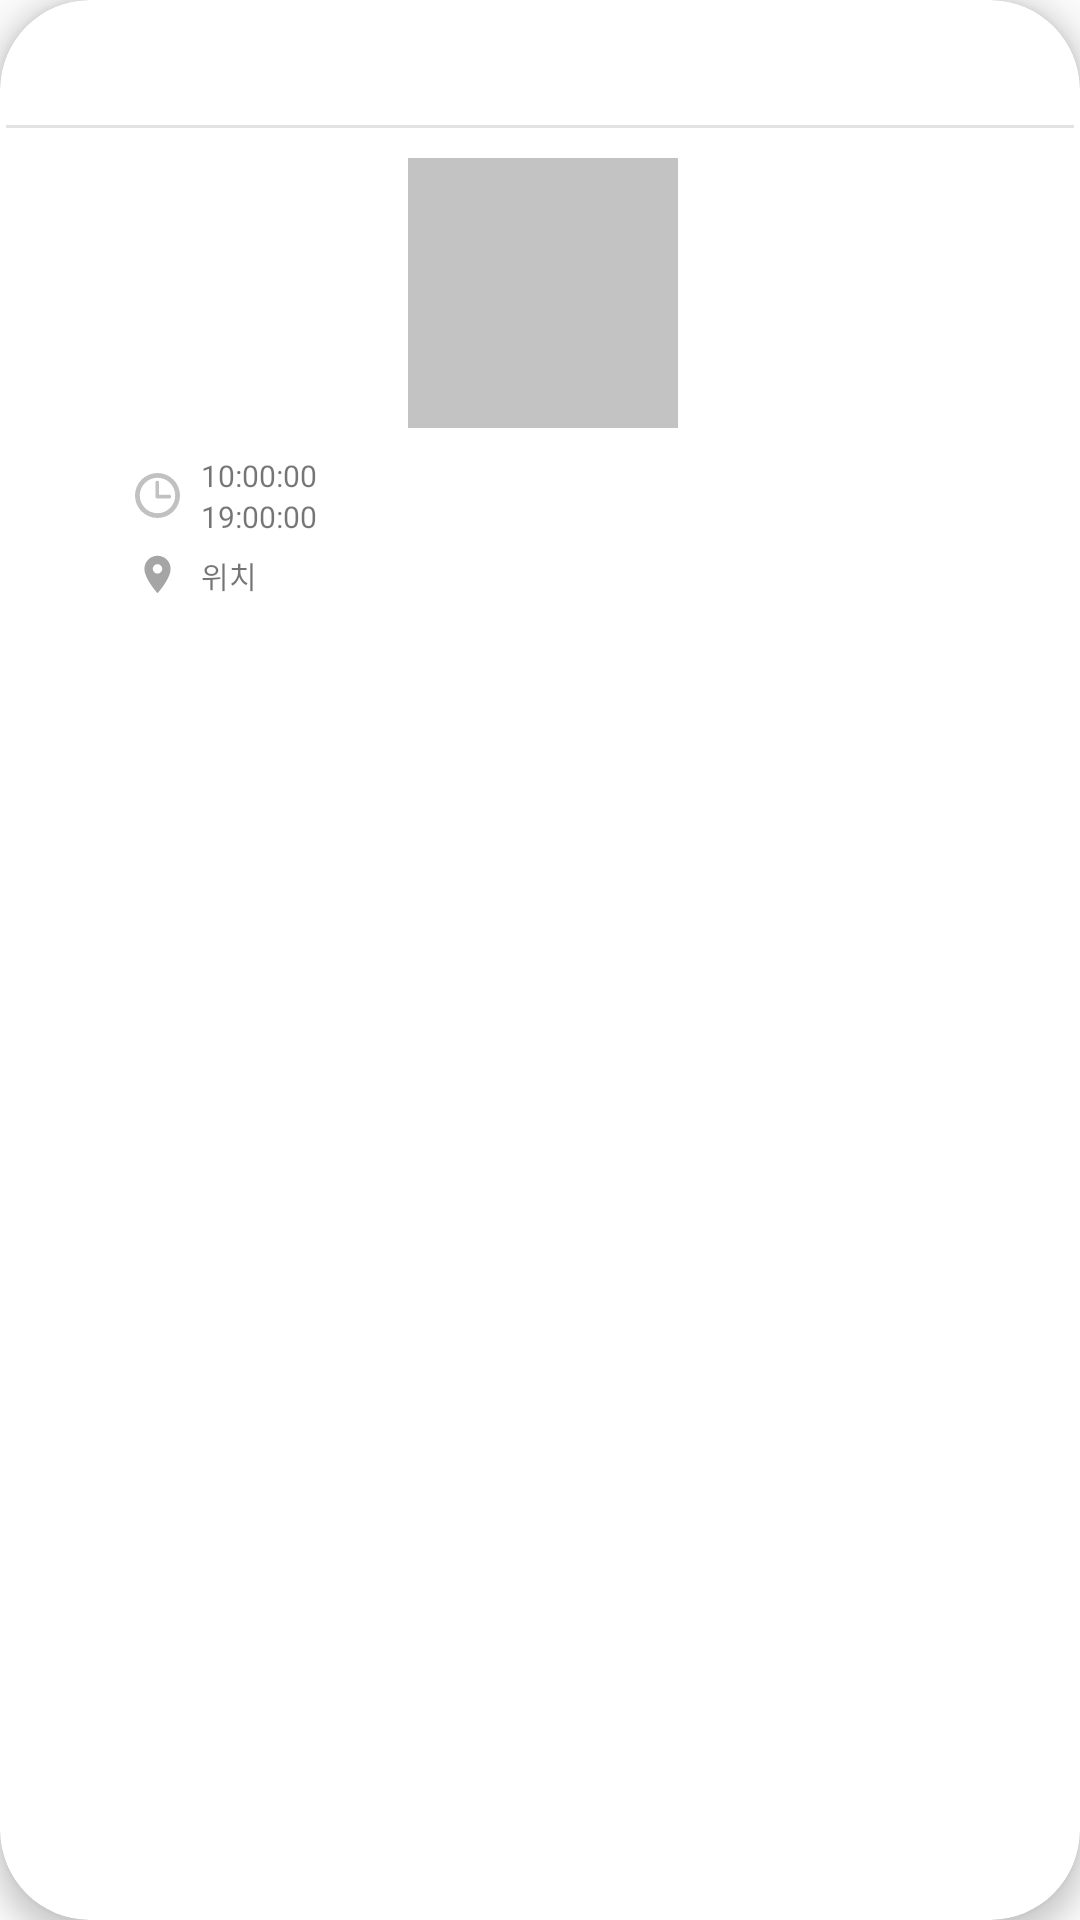

Where icons sit on this 1080 × 1920 app screen, as (x1, y1, x2, y2):
clock: (135, 473, 180, 518)
location on: (144, 556, 171, 593)
